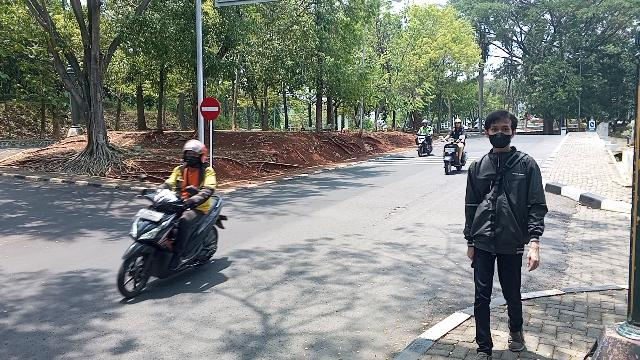helm: (182, 140, 208, 168), (455, 120, 464, 129), (423, 120, 430, 128)
motor: (117, 173, 230, 301), (439, 137, 470, 176), (415, 131, 435, 158)
